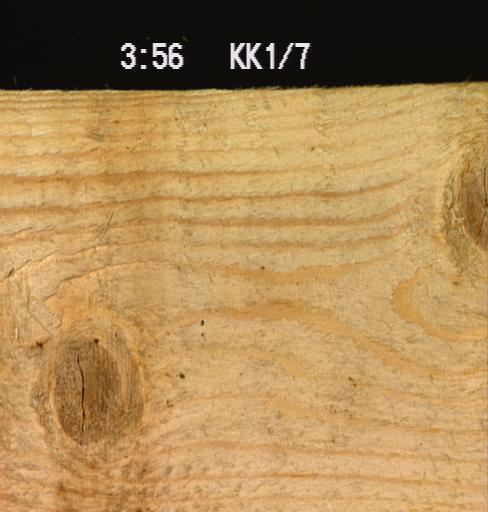sound_knot: (49, 340, 123, 442), (452, 145, 487, 250)
